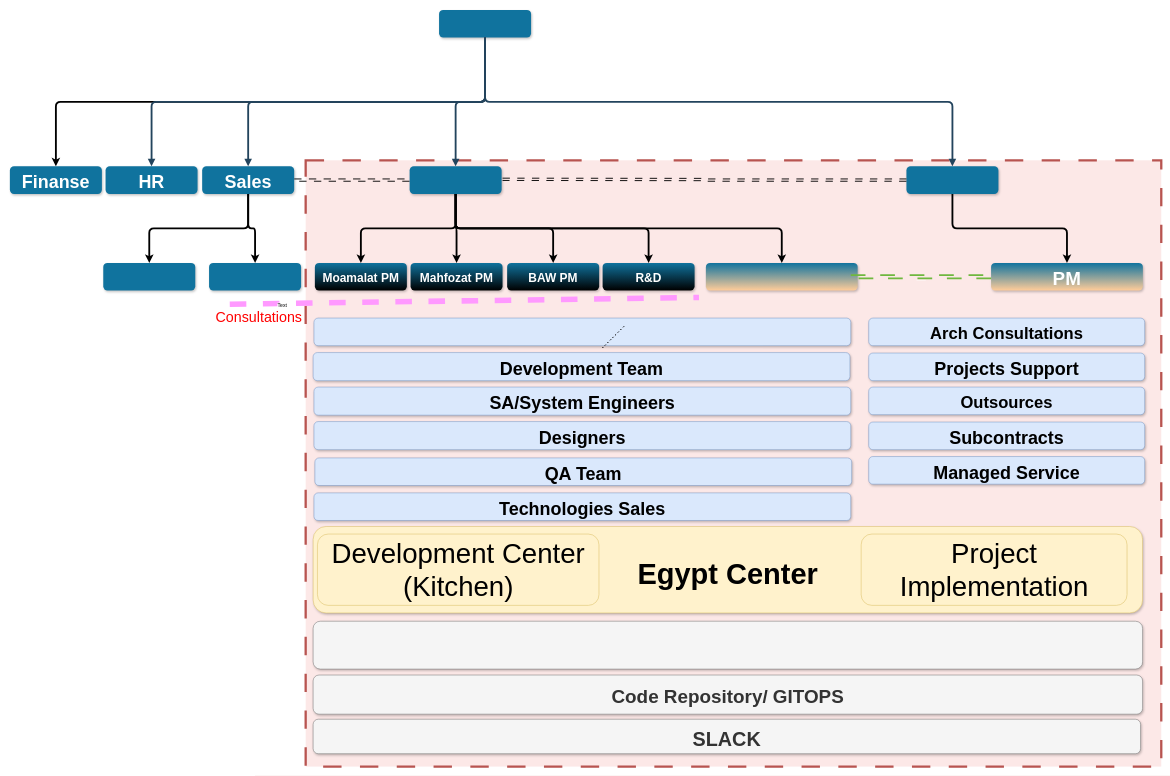
Image size: 1170x776. Some labels were removed from this diagram. Here are the shapes that lost their labels. From the top down, the centre of each, then its label:
the point at 485,24: CEO
the point at 456,180: CTO
the point at 952,180: PMO
the point at 149,277: Accounts Managers
the point at 255,277: Presales
the point at 782,277: SDM
the point at 583,332: Business Analysts
the point at 728,645: DEVSecOPS & JIRA Regulatory and Enforcement Process
